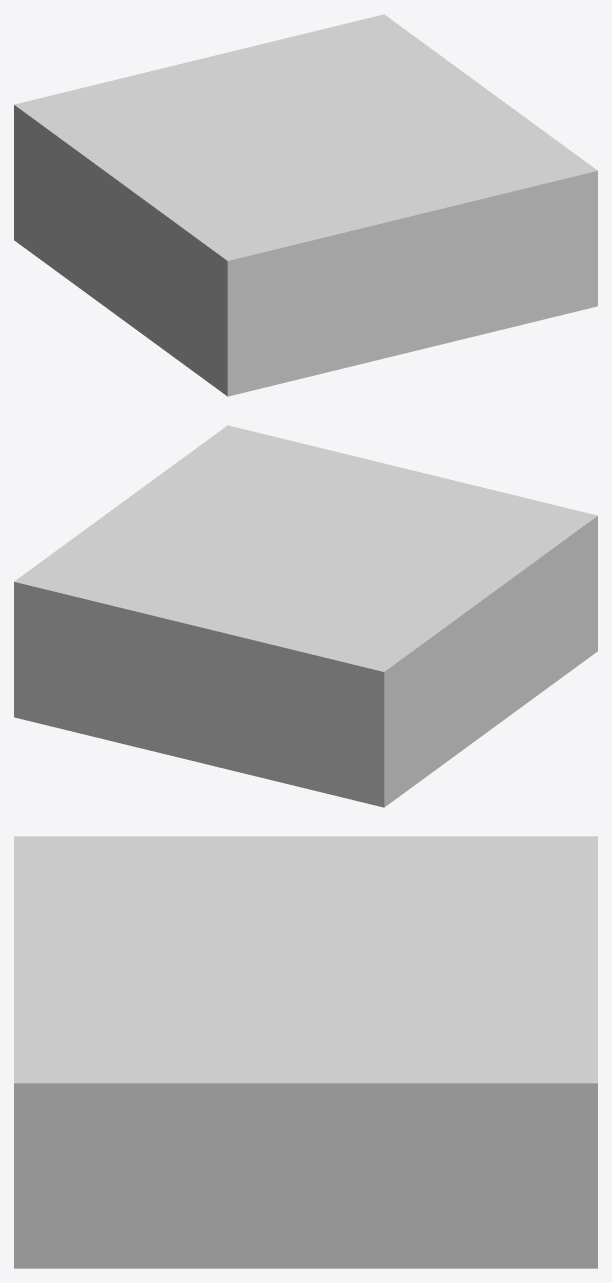
The model's file is Itr_Obj_Stickynote_Box_06.FBX.
3 renders of one model, top to bottom at view 1: azimuth 30°, elevation 25°; view 2: azimuth 150°, elevation 25°; view 3: azimuth 270°, elevation 25°, orthographic. The views are drawn at different scales.
Parts seen in each view (by area): view 1: Itr_Obj_Stickynote_Box_06; view 2: Itr_Obj_Stickynote_Box_06; view 3: Itr_Obj_Stickynote_Box_06.
Boxes of the visible parts, x1,y1,x2,y2 form: Itr_Obj_Stickynote_Box_06: (14, 14, 597, 396); Itr_Obj_Stickynote_Box_06: (14, 425, 597, 807); Itr_Obj_Stickynote_Box_06: (14, 836, 597, 1268).
Size of the model in its own units: 3.94 by 1.38 by 3.94.
